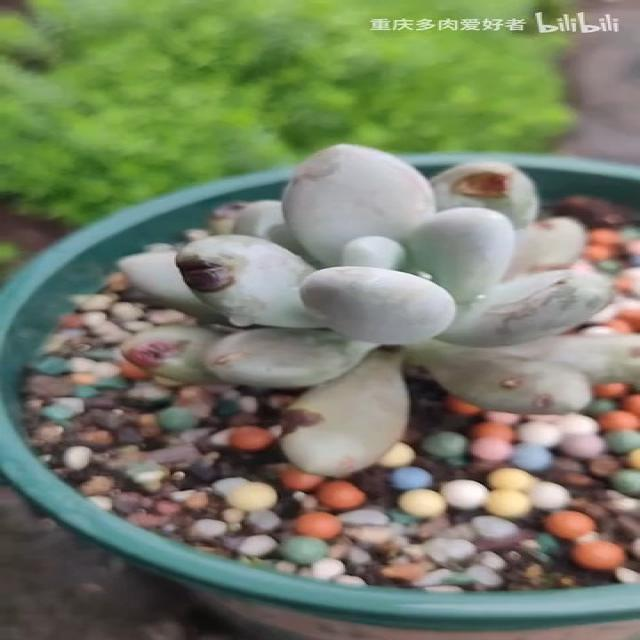-: (173, 252, 247, 300), (450, 170, 517, 204)
